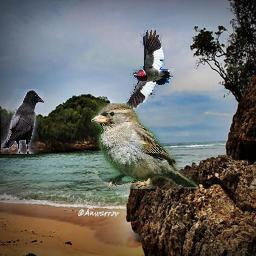Crow: (2, 90, 45, 155)
Sparrow: (92, 103, 199, 189)
Woodpecker: (125, 29, 173, 112)
